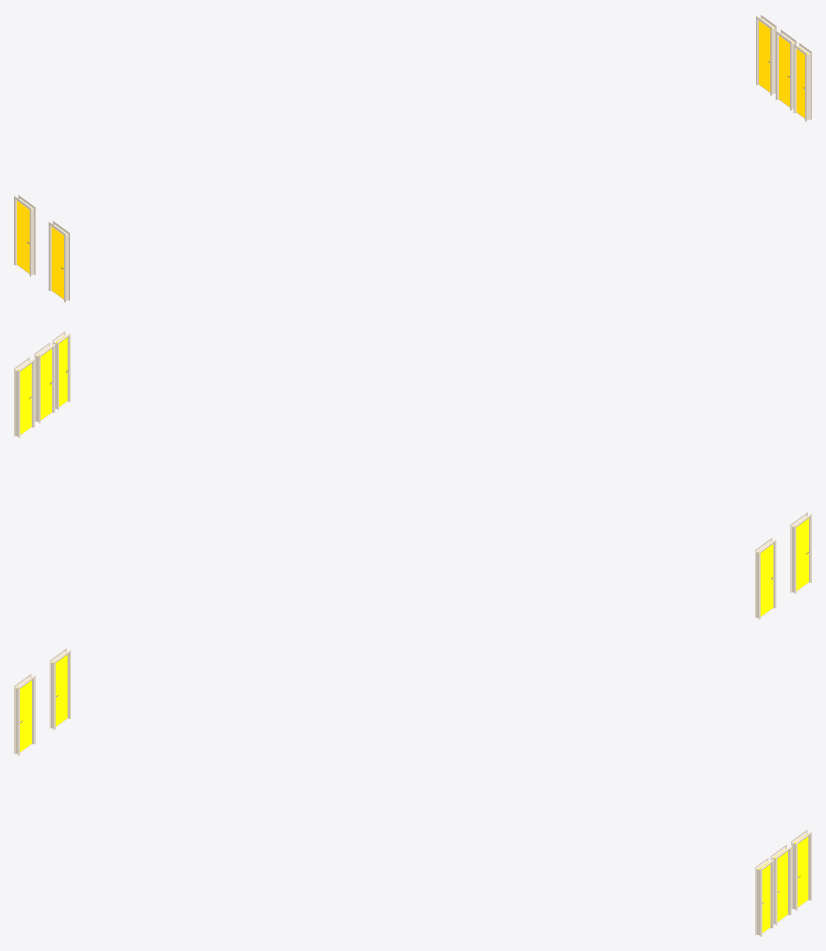
File: doorswc.dae
3 views of the same model, one above another, from view 1: azimuth 30°, elevation 25°; view 2: azimuth 150°, elevation 25°; view 3: azimuth 330°, elevation 25° (orthographic).
Visible parts, largest first — view 1: DoorsWC; view 2: DoorsWC; view 3: DoorsWC.
Boxes of the visible parts, x1,y1,x2,y2 form: DoorsWC: [14, 15, 811, 302]; DoorsWC: [14, 331, 811, 619]; DoorsWC: [14, 648, 811, 936].
Size of the model in its own units: 28.19 by 3.41 by 2.47.
